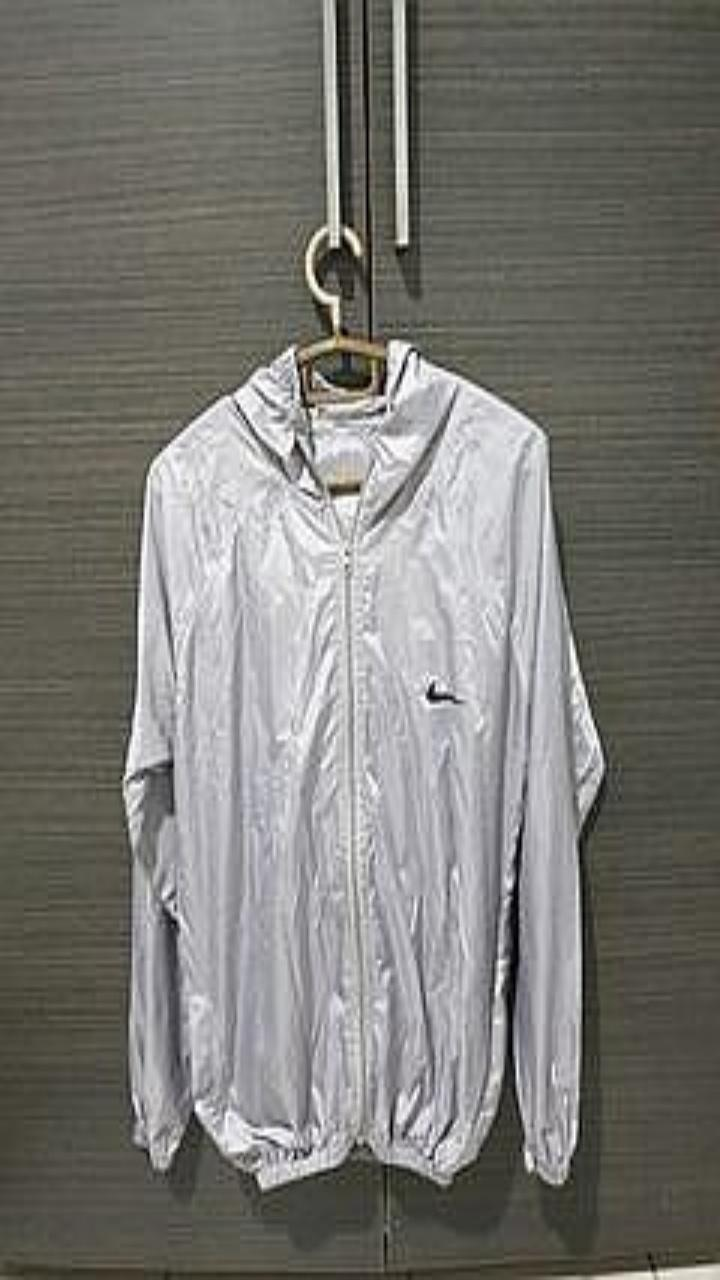Sports_Jacket: (122, 336, 604, 1188)
